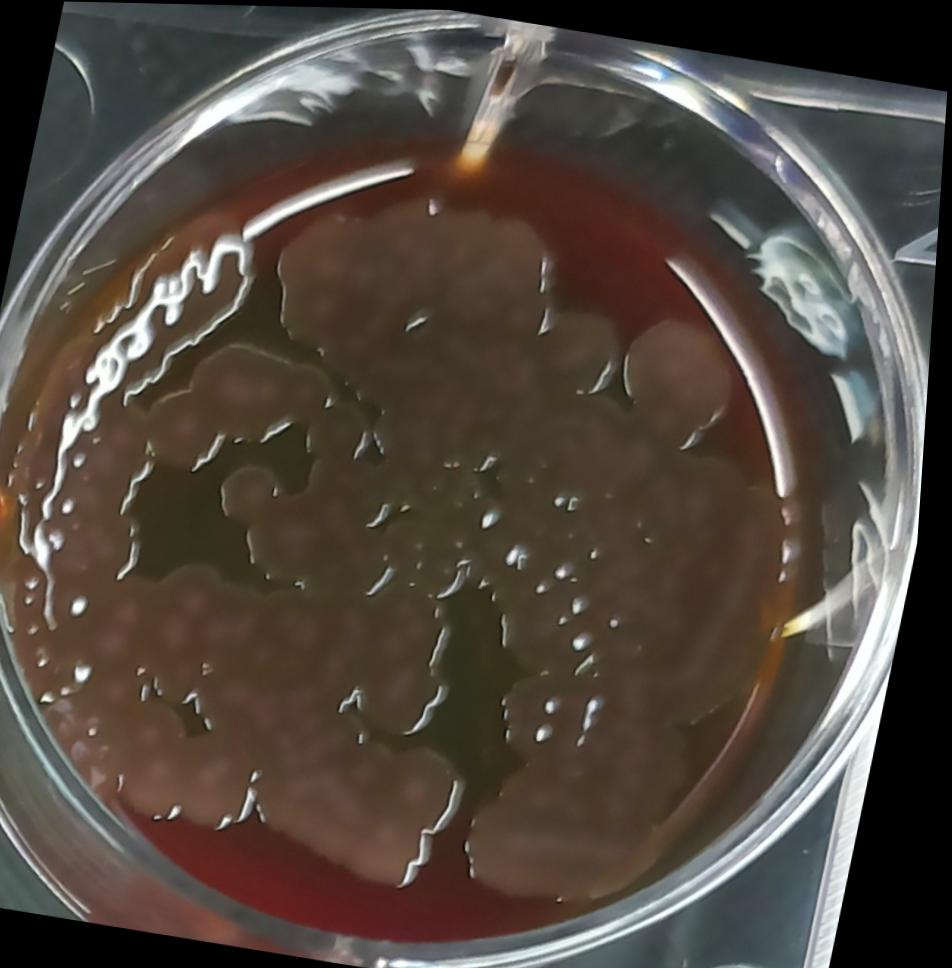vproteolyticus: (0, 128, 850, 941)
